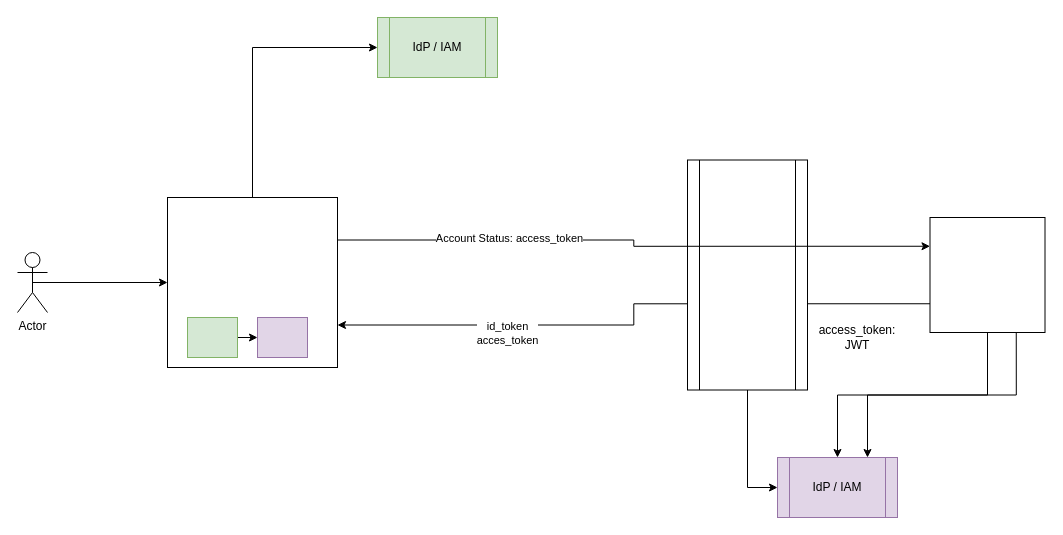
Some shapes in this 1063 by 535 pixel diagram are drawn without their labels. Here are the shapes that lost their labels. From the top down, the box of each, then its label:
(166, 196, 338, 368): App
(929, 216, 1045, 332): API PayPal
